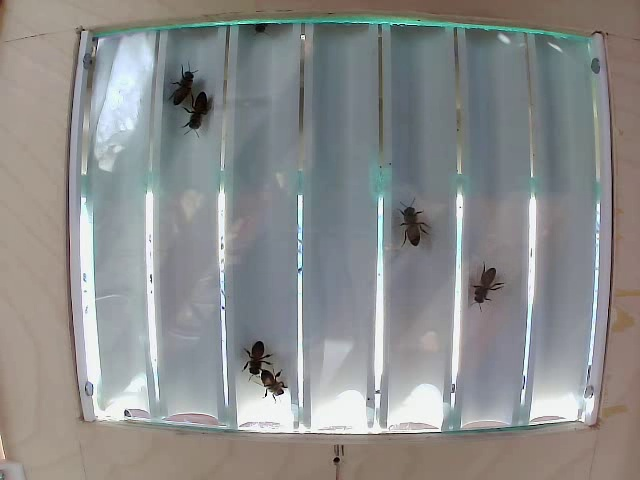bee: (459, 253, 504, 314), (393, 197, 435, 253), (163, 68, 210, 105), (181, 96, 223, 136), (228, 335, 274, 369), (260, 374, 296, 404)
